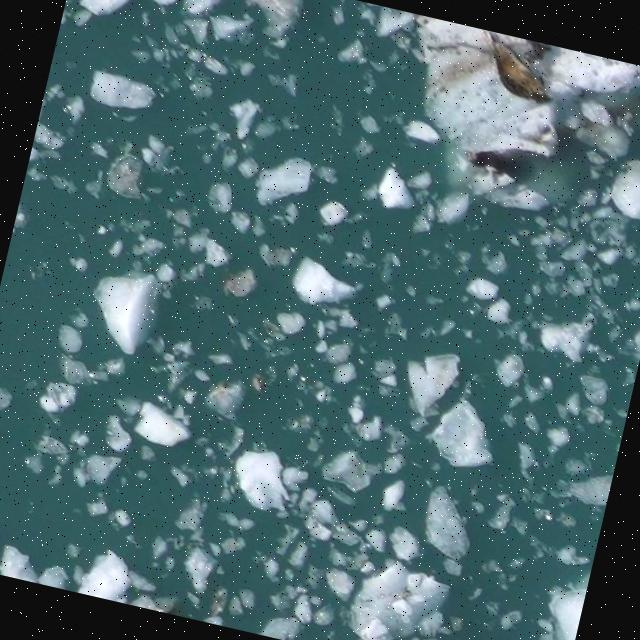seal: (484, 30, 552, 105)
